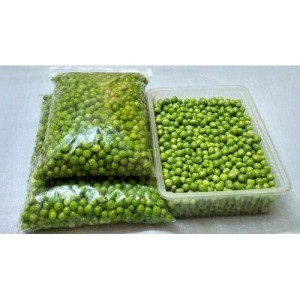green pea_brain food: (34, 81, 118, 209), (178, 109, 234, 182)
